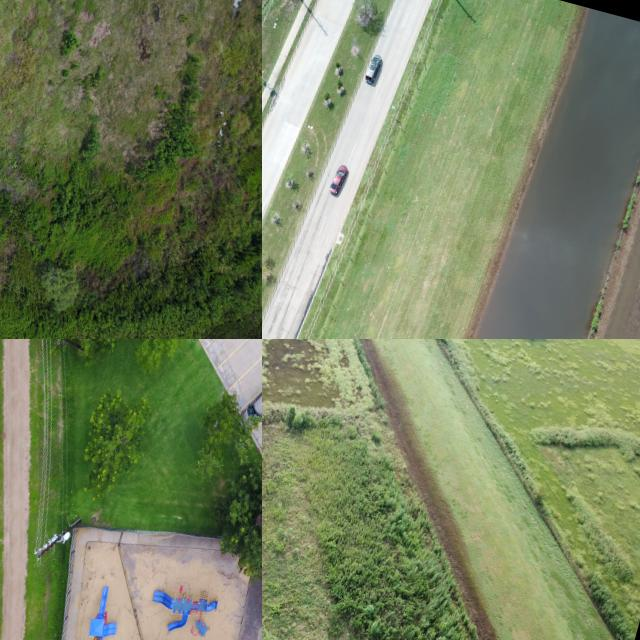fire: (475, 9, 640, 339)
